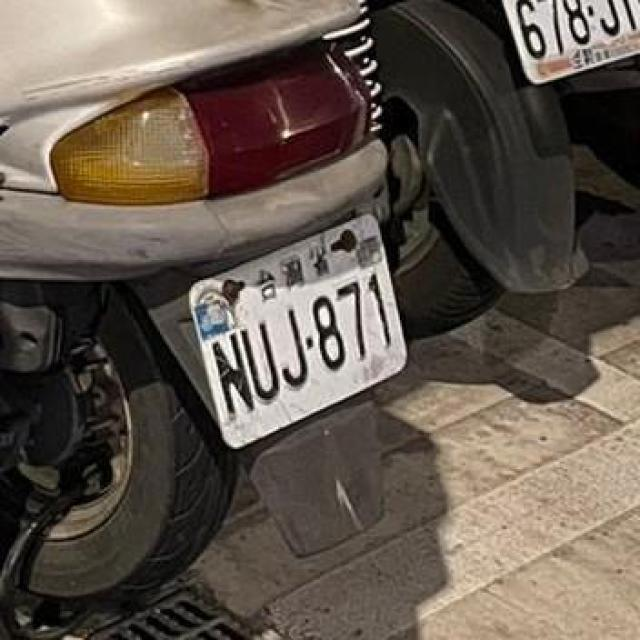W: (171, 204, 424, 462), (489, 0, 640, 91)
